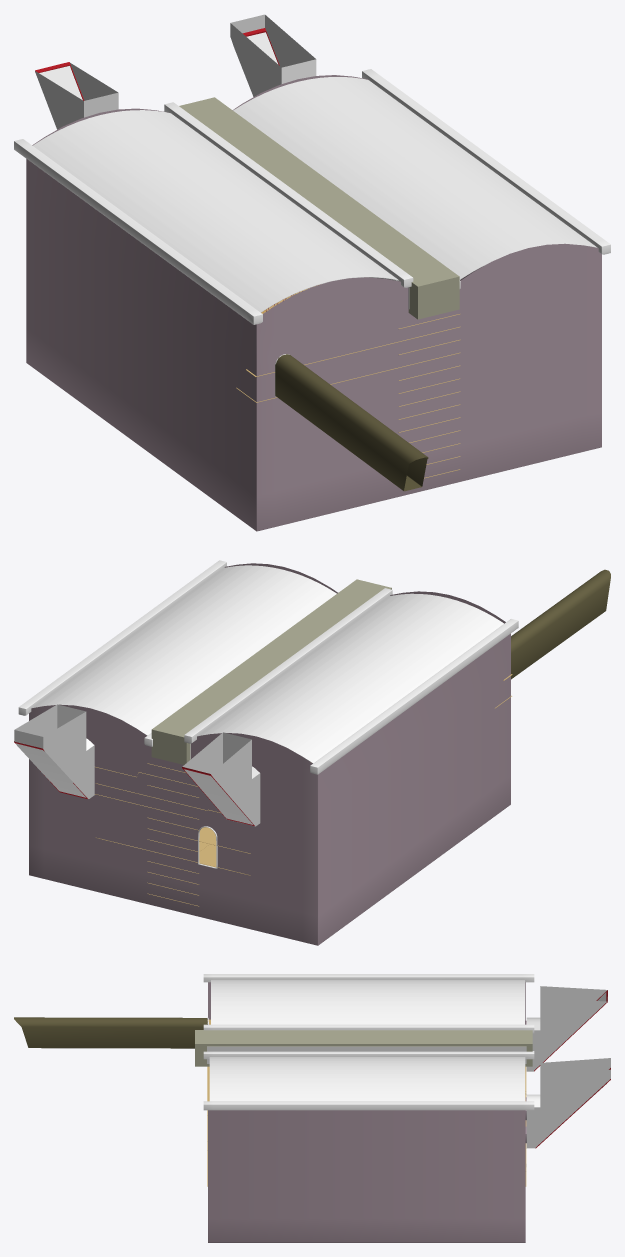
Rendered from Center_Atrium.glb.
3 views of the same model, one above another, from view 1: azimuth 30°, elevation 25°; view 2: azimuth 150°, elevation 25°; view 3: azimuth 270°, elevation 25° (orthographic). The views are drawn at different scales.
Visible parts, largest first — view 1: CenterAtrium_Structures_LOD0, GlazingCenterAtrium_LOD0, CenterAtrium_Columns_LOD0, CenterAtrium_Levels_Stairs_LOD0; view 2: CenterAtrium_Structures_LOD0, GlazingCenterAtrium_LOD0, CenterAtrium_Columns_LOD0, CenterAtrium_Levels_Stairs_LOD0; view 3: CenterAtrium_Structures_LOD0, GlazingCenterAtrium_LOD0, CenterAtrium_Columns_LOD0, Column-colonly.002.
Boxes of the visible parts, x1,y1,x2,y2 form: CenterAtrium_Structures_LOD0: [14, 14, 610, 531]; GlazingCenterAtrium_LOD0: [33, 77, 597, 312]; CenterAtrium_Columns_LOD0: [179, 97, 459, 319]; CenterAtrium_Levels_Stairs_LOD0: [236, 284, 460, 478]; CenterAtrium_Structures_LOD0: [14, 560, 610, 945]; GlazingCenterAtrium_LOD0: [33, 565, 503, 763]; CenterAtrium_Columns_LOD0: [151, 579, 391, 764]; CenterAtrium_Levels_Stairs_LOD0: [95, 674, 512, 906]; CenterAtrium_Structures_LOD0: [14, 974, 610, 1242]; GlazingCenterAtrium_LOD0: [209, 980, 525, 1101]; CenterAtrium_Columns_LOD0: [195, 1030, 532, 1066]; Column-colonly.002: [207, 1046, 526, 1063].
Size of what is drawn, in the model's own units: 86.6 by 55.18 by 182.
